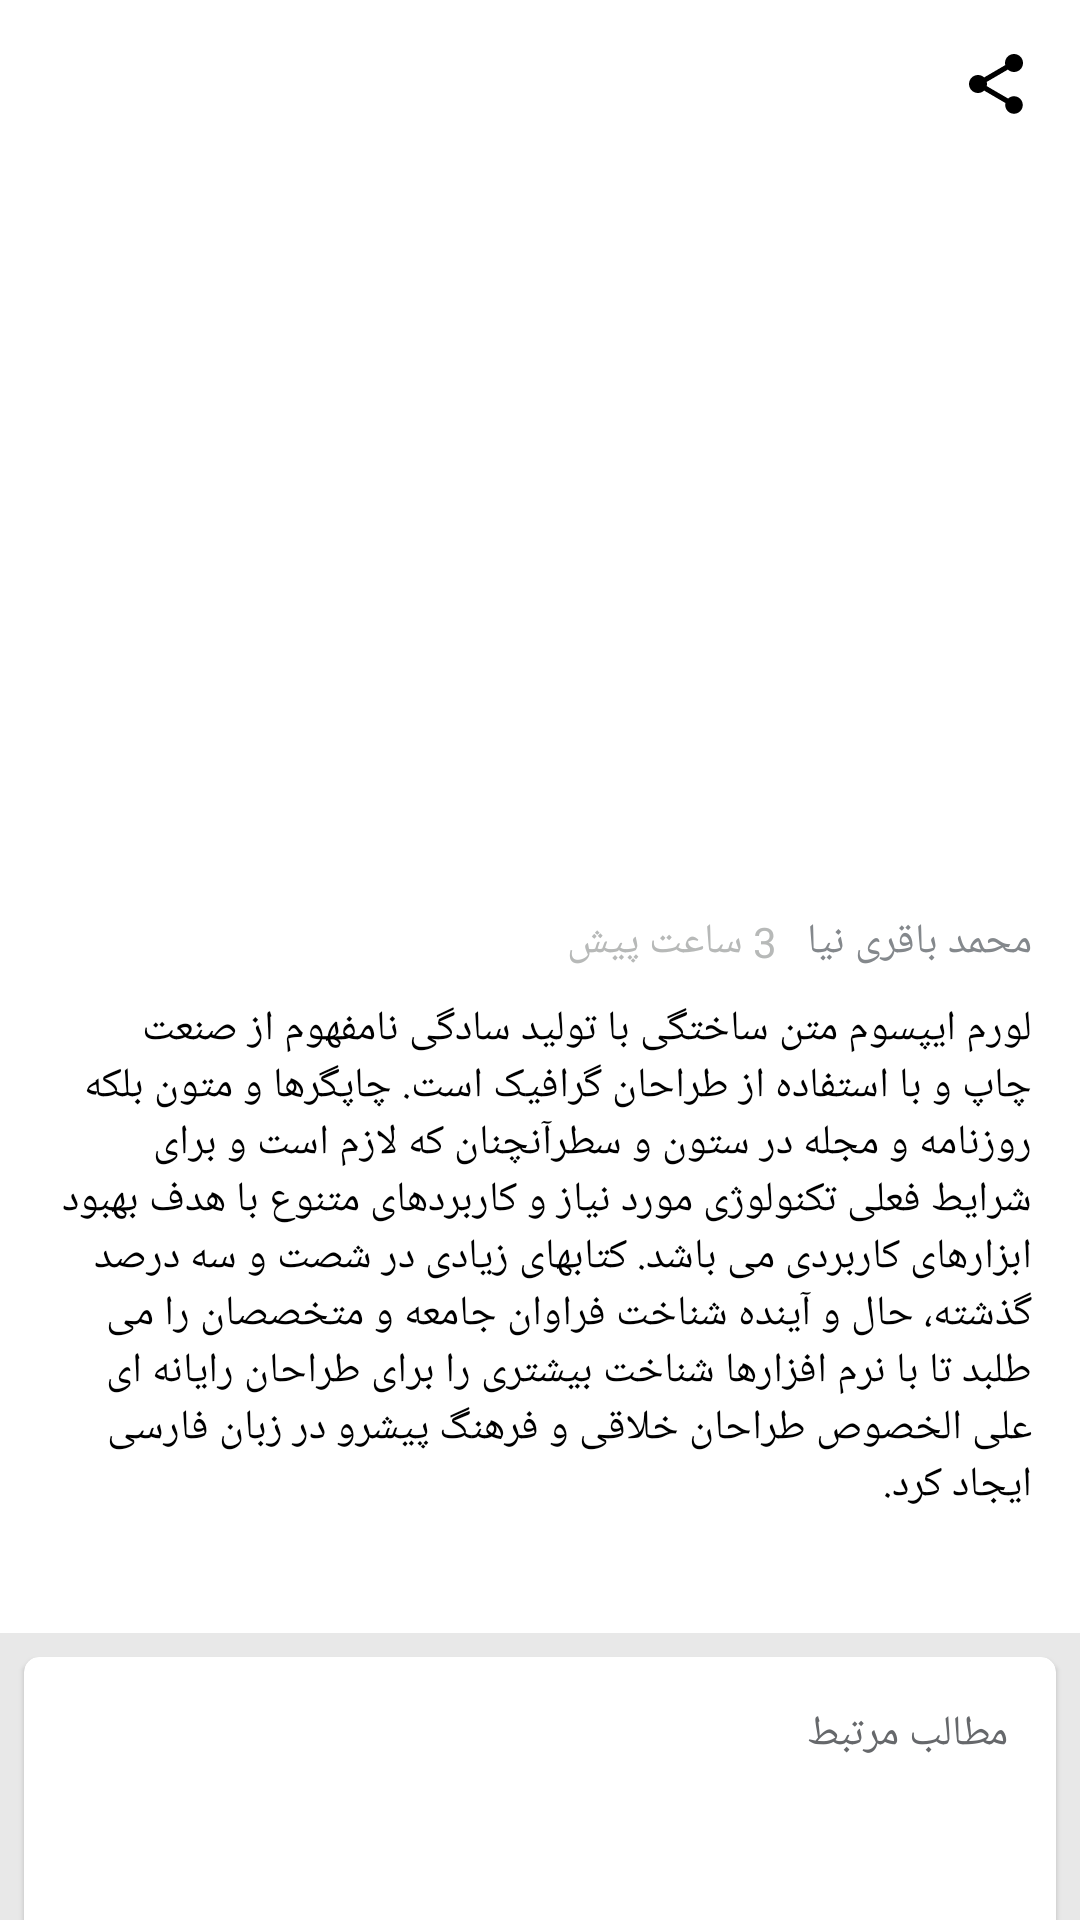

Locate icon controls on the screen. Image size 1080px x 1920px, boxes as (x1, y1, x2, y2).
share: (969, 54, 1023, 114)
